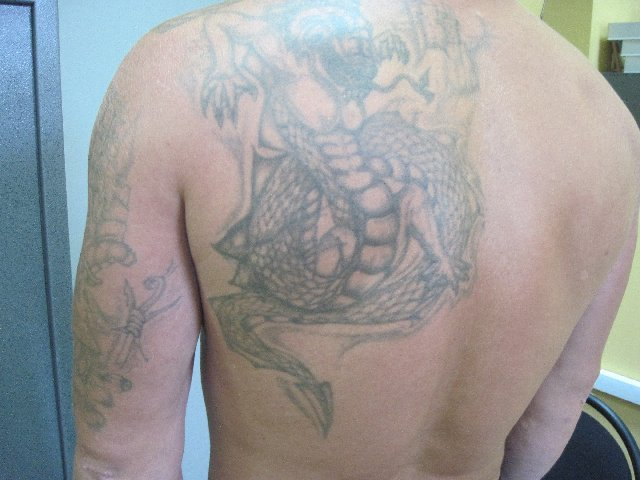tatu6_drakon: (176, 12, 498, 423)
